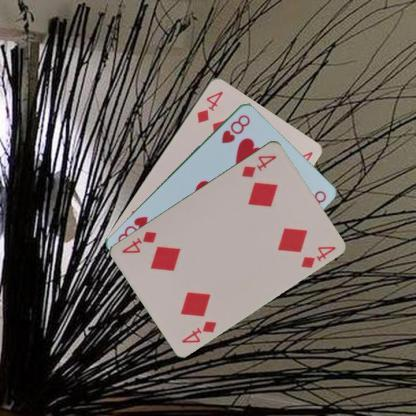4d: (194, 88, 224, 124), (180, 317, 218, 344), (239, 152, 278, 178)
8h: (218, 112, 252, 145)
